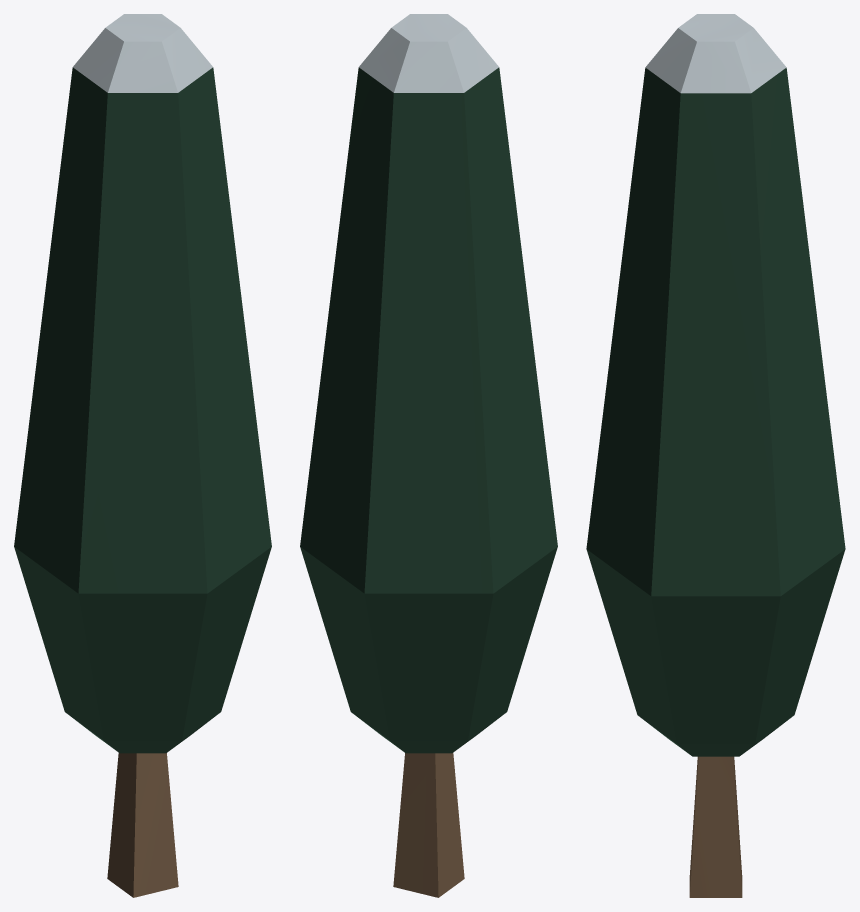
File: tree_tall.glb
The picture shows the model from 3 angles, left to right: view 1: azimuth 30°, elevation 25°; view 2: azimuth 150°, elevation 25°; view 3: azimuth 270°, elevation 25°; orthographic projection.
Parts seen in each view (by area): view 1: tree_tall; view 2: tree_tall; view 3: tree_tall.
Part boxes in pixels (x1,y1,x2,y2): tree_tall: (14,14,271,897); tree_tall: (300,14,557,897); tree_tall: (586,14,845,897).
Bounding box in the file's own units: 0.3996 × 1.69 × 0.4614.
